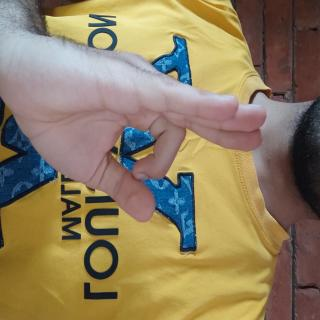Space: (16, 58, 171, 320)
